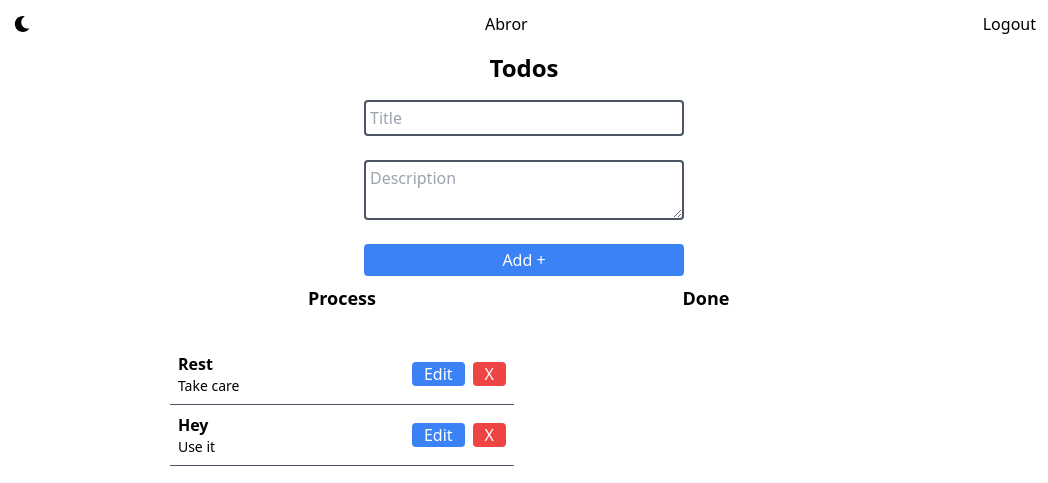
Test: Home › Edit button functionality
This screenshot has width=1048, height=483.
Click the button "Edit" in the row of "Take care". click: (438, 374)
box: left=412, top=362, right=465, bottom=386
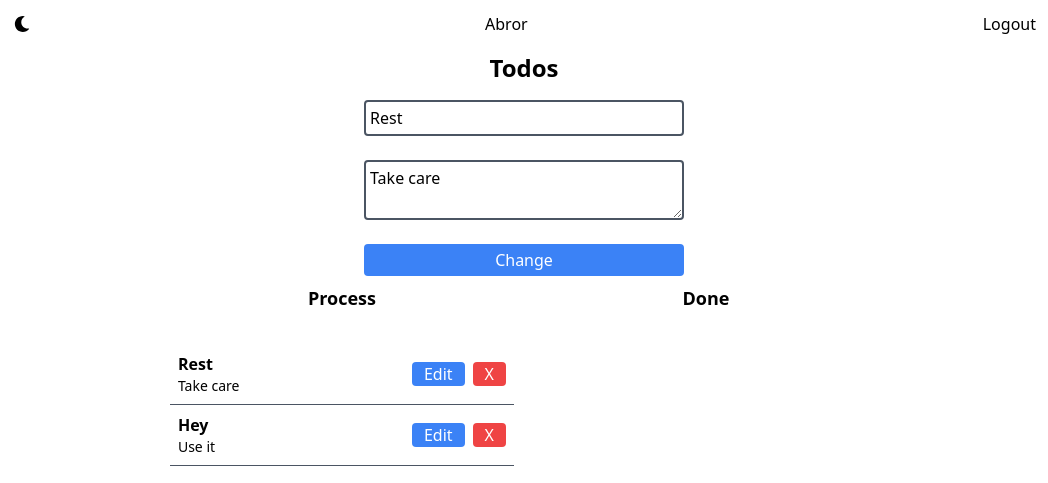
Now the button "Add +" reads "Change", box left=364, top=244, right=684, bottom=276
Now the field with test id "testInput" holds "Rest", box left=364, top=100, right=684, bottom=136
Now the text box with test id "testTextarea" holds "Take care", box left=364, top=160, right=684, bottom=220
